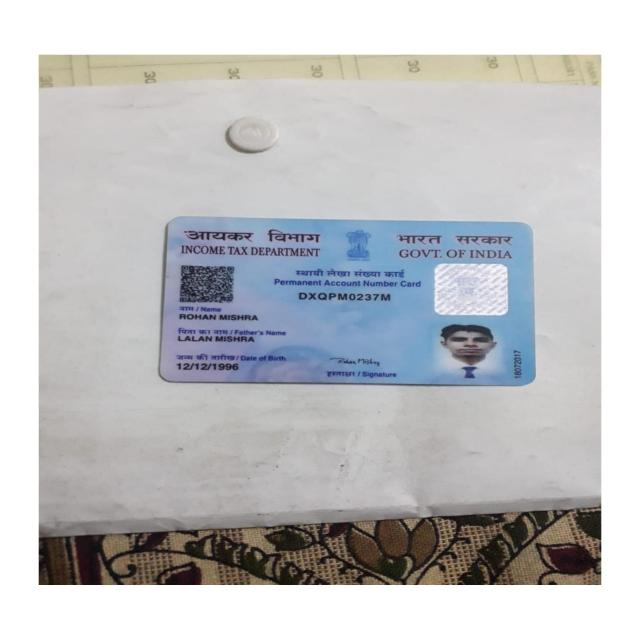pan_card: (161, 217, 537, 386)
